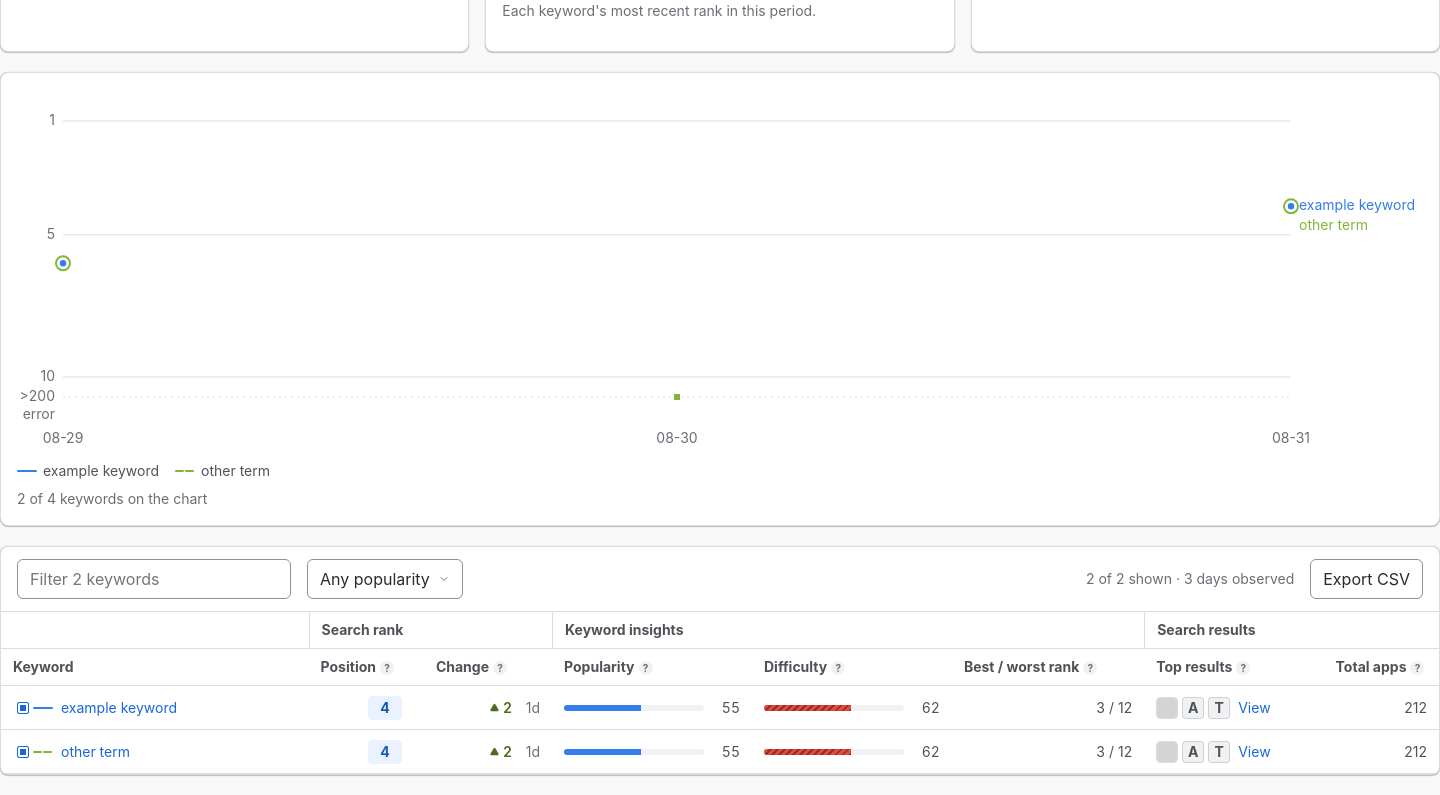
Test: Keyword performance page › filters the table by keyword and says when nothing matches
(page scrolled)
Type "other" into the search field named "Filter keywords". click: (154, 579)
box: left=17, top=559, right=291, bottom=599
(page scrolled)
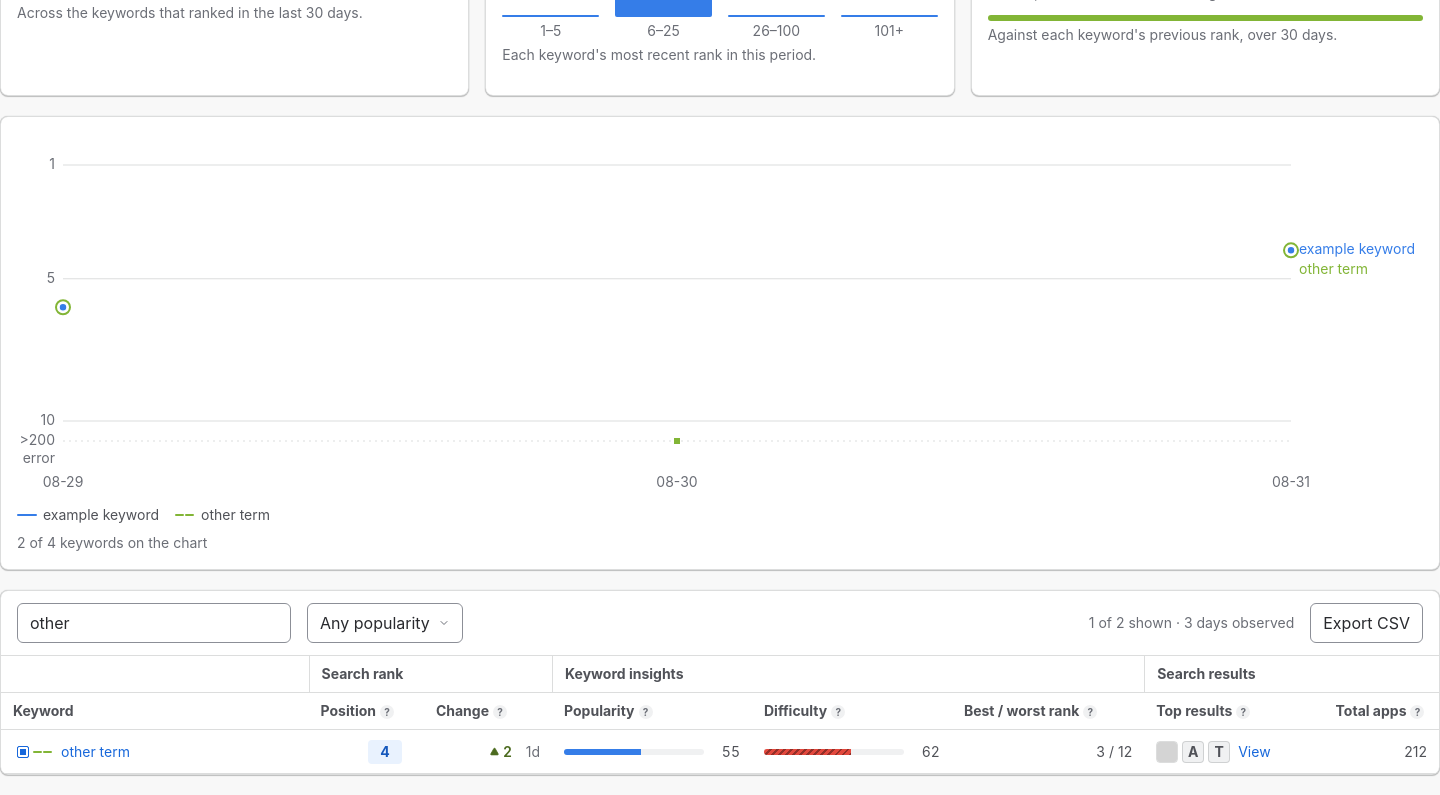
Expected: the button "other term" in the row of "62" is shown, left=61, top=742, right=130, bottom=762
Replace the text in the search field named "Filter keywords" with "zzz". click: (154, 623)
box: left=17, top=603, right=291, bottom=643
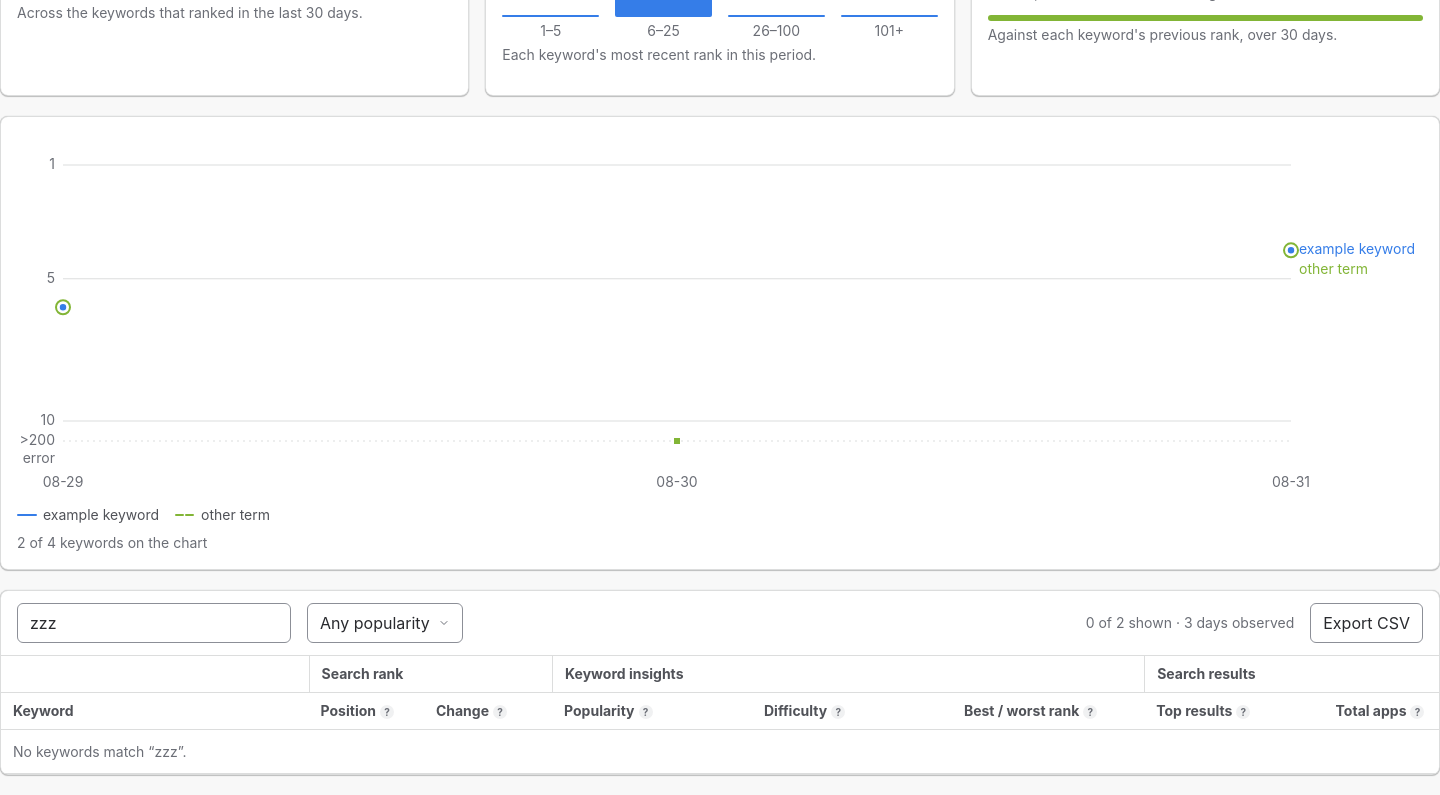
Expected: the text "No keywords match “zzz”." is shown, left=1, top=730, right=1439, bottom=774
